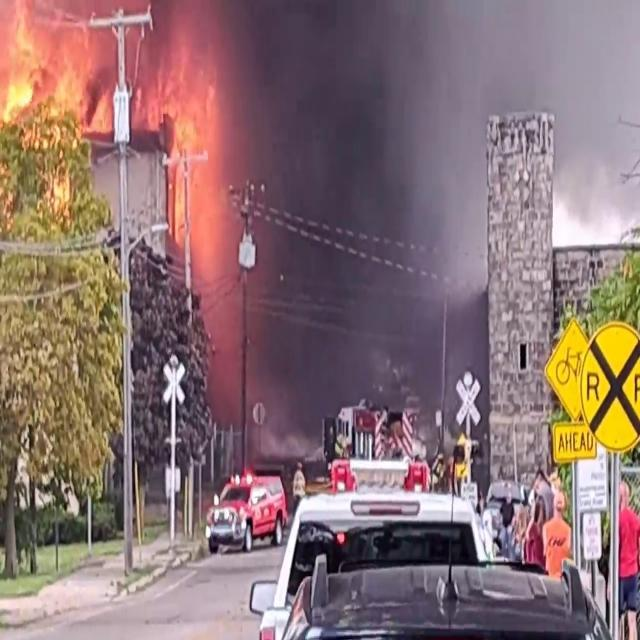Fire: (0, 1, 111, 157), (155, 58, 221, 242)
Smoke: (215, 0, 467, 359)
